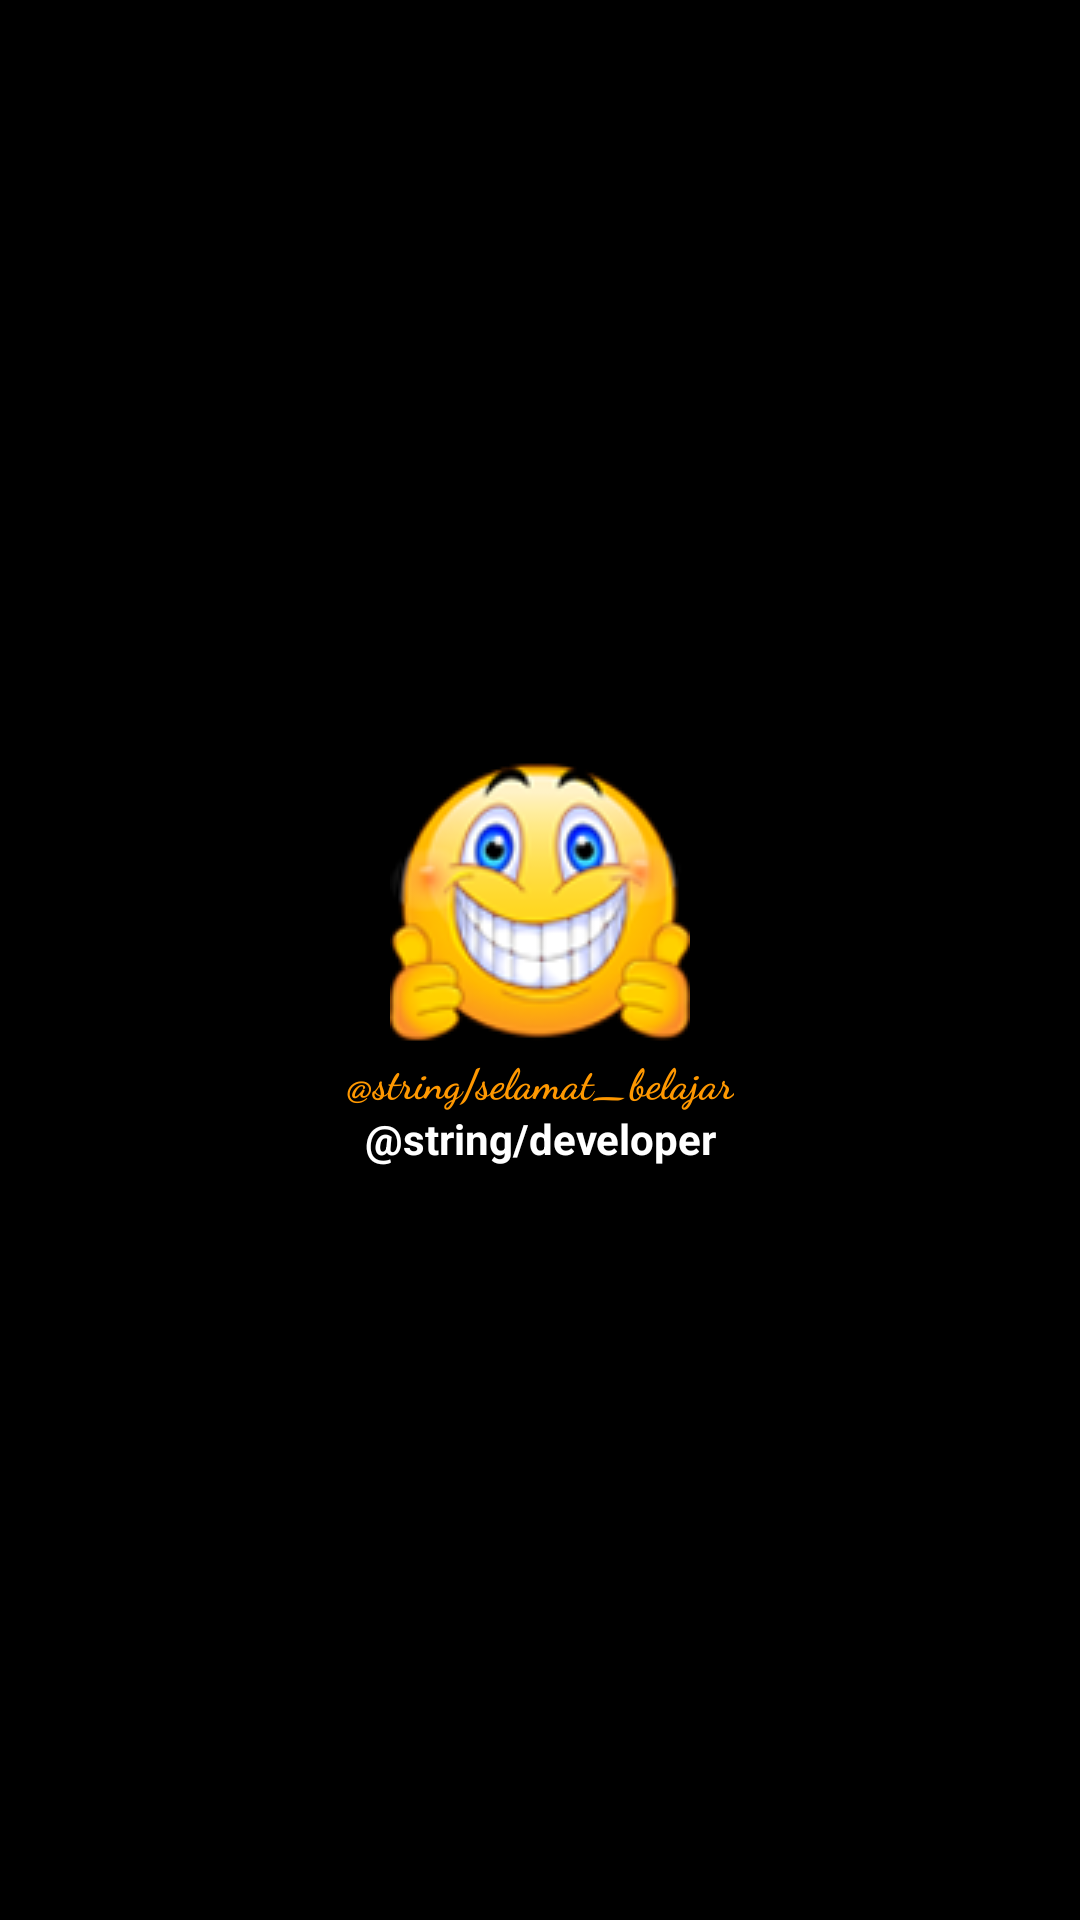

Icons on this 1080x1920 Android screen, each with the point to tap as point (x, y):
smile: point (540, 902)
